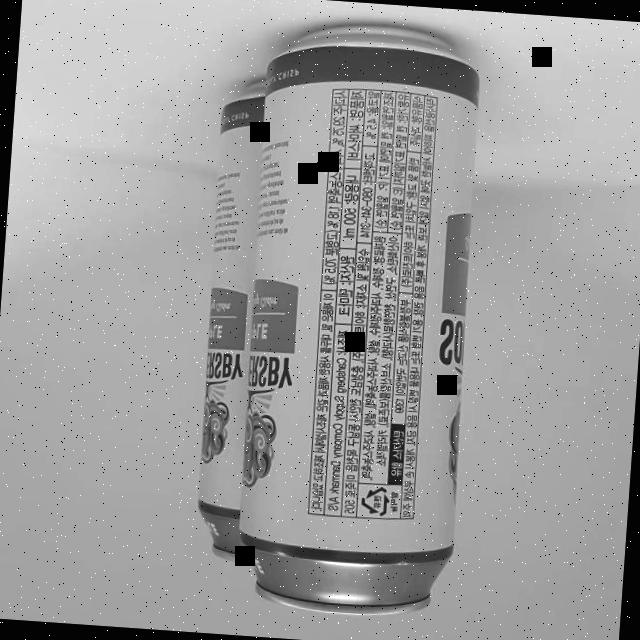can: (228, 17, 488, 620)
